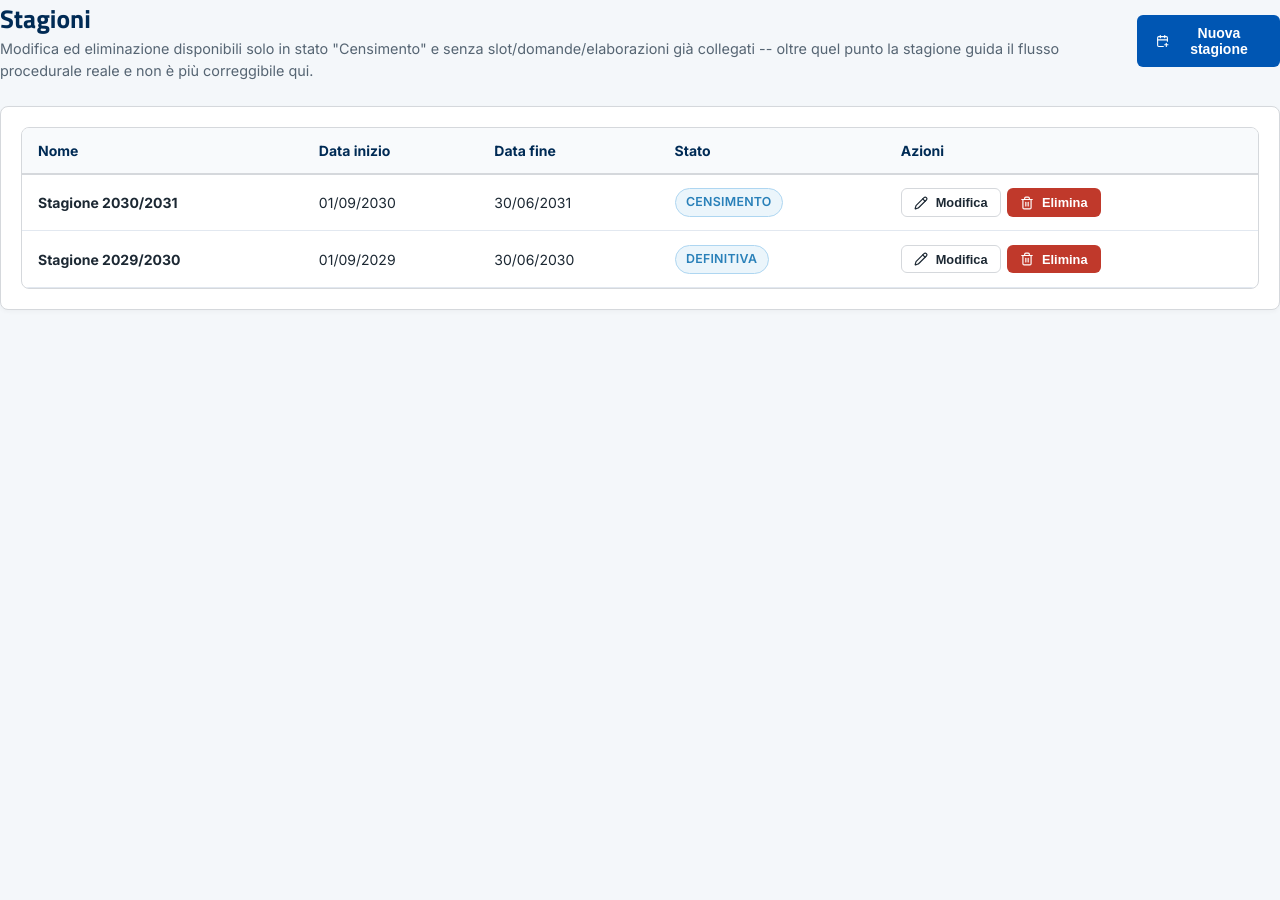
Test: StagioniView › crea una nuova stagione: submit chiama creaStagione, poi ricarica
The image size is (1280, 900).
Expected: the text "Stagione 2030/2031" is shown, x1=22 y1=174 x2=303 y2=231
Click the button "Nuova stagione" at coordinates (1208, 41), box x1=1137 y1=15 x2=1279 y2=67
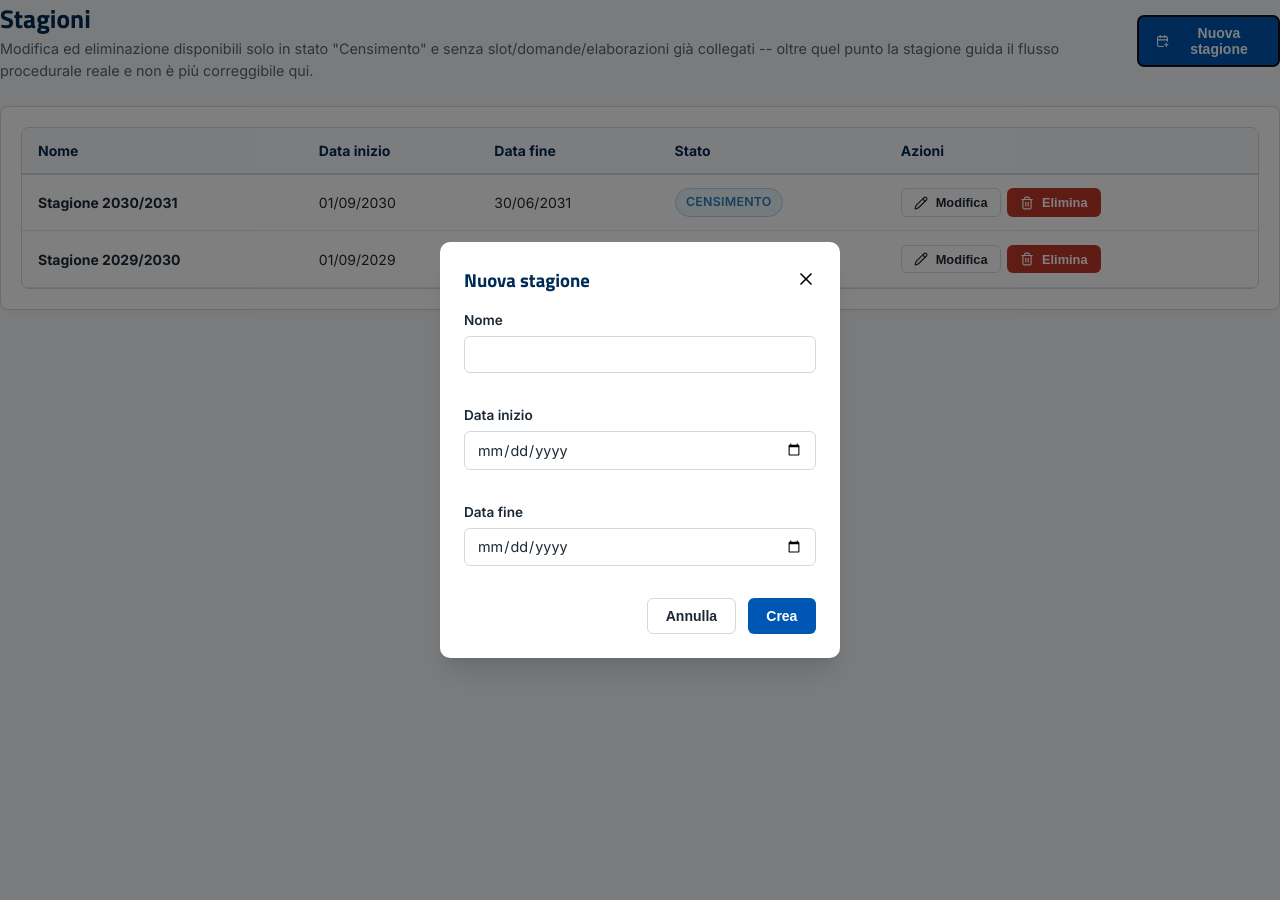
Type "Nuova" into the field labelled "Nome" at coordinates (640, 355), box x1=464 y1=336 x2=816 y2=373
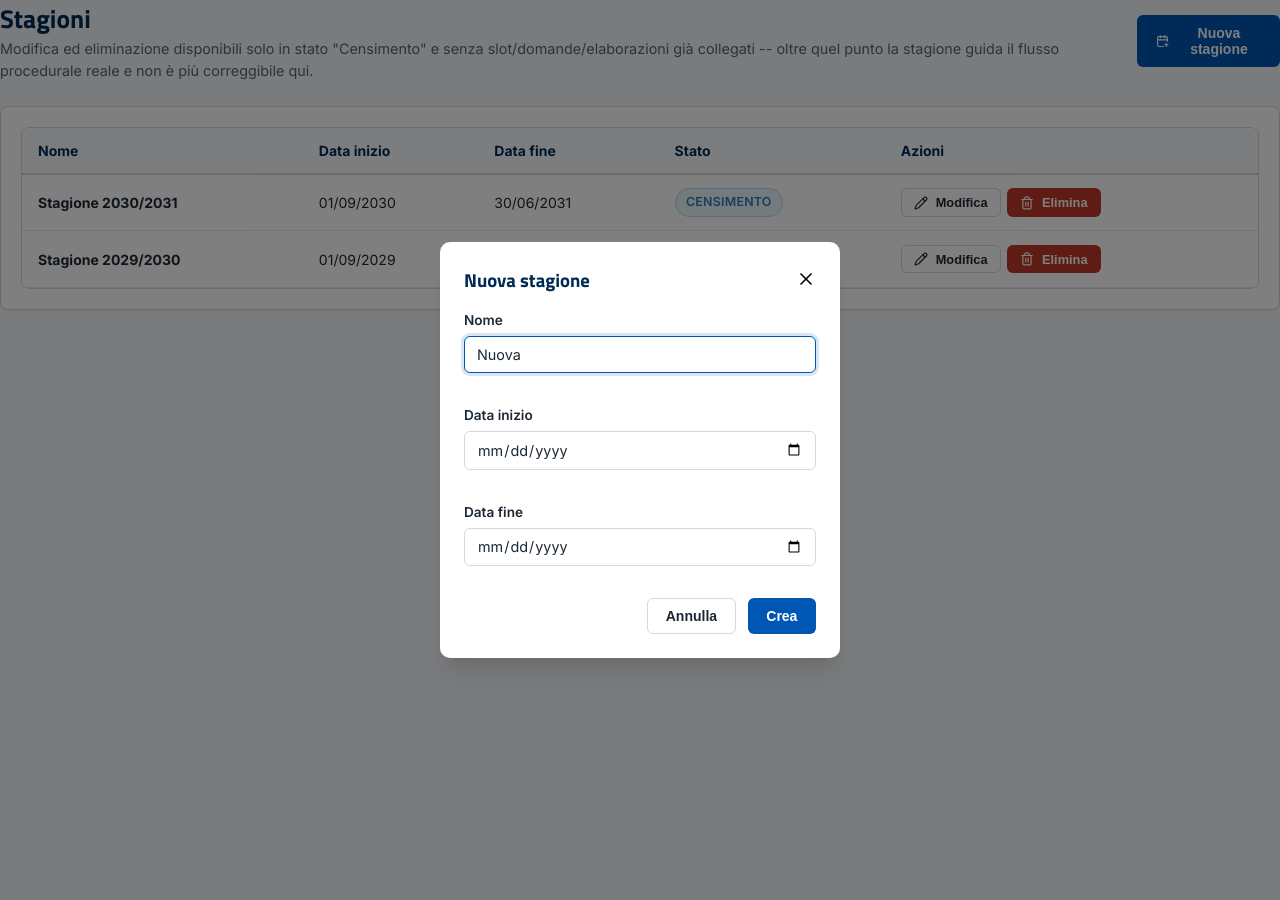
Type "2032-09-01" into the date field labelled "Data inizio" at coordinates (640, 450), box x1=464 y1=431 x2=816 y2=470
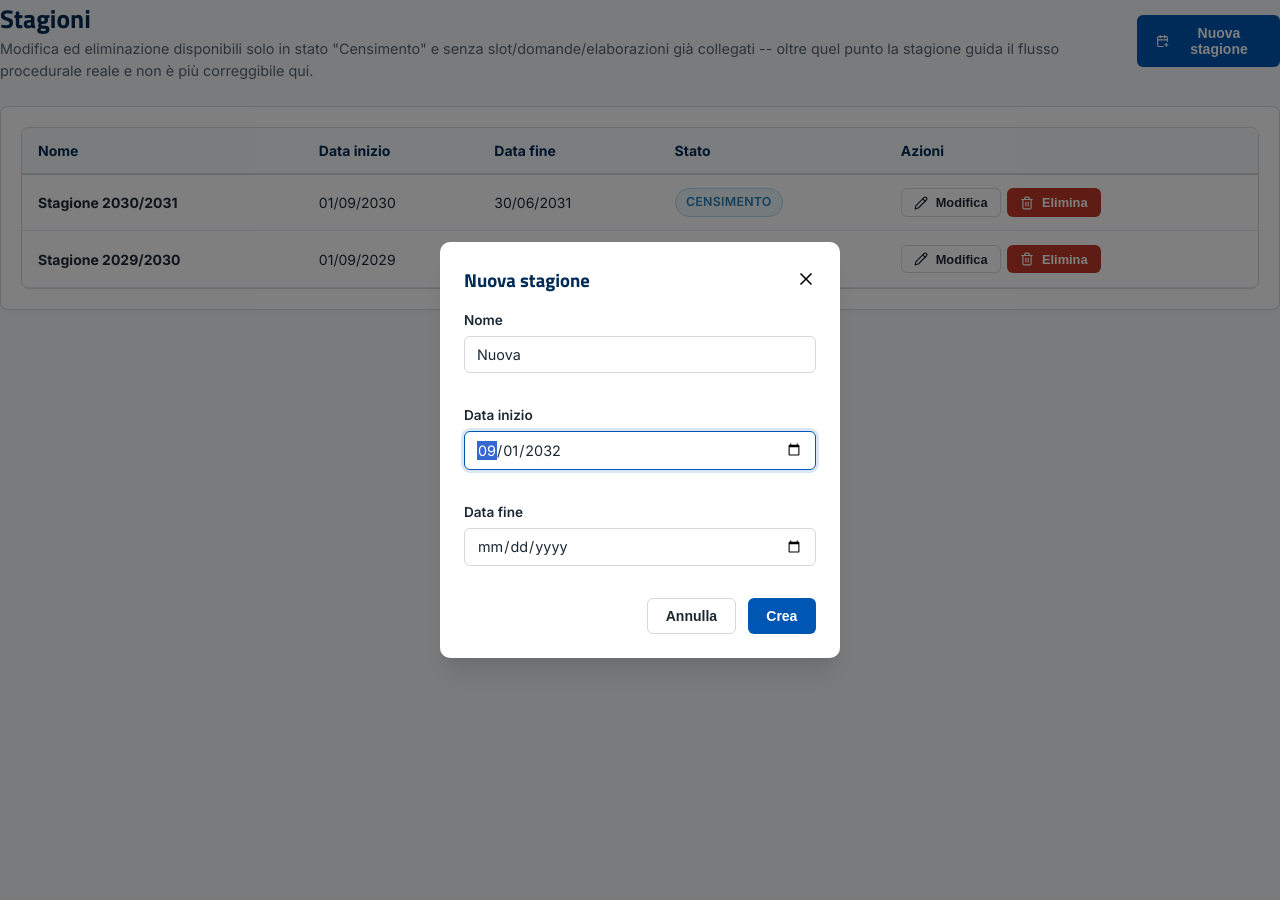
Type "2033-06-30" into the date field labelled "Data fine" at coordinates (640, 547), box x1=464 y1=528 x2=816 y2=566
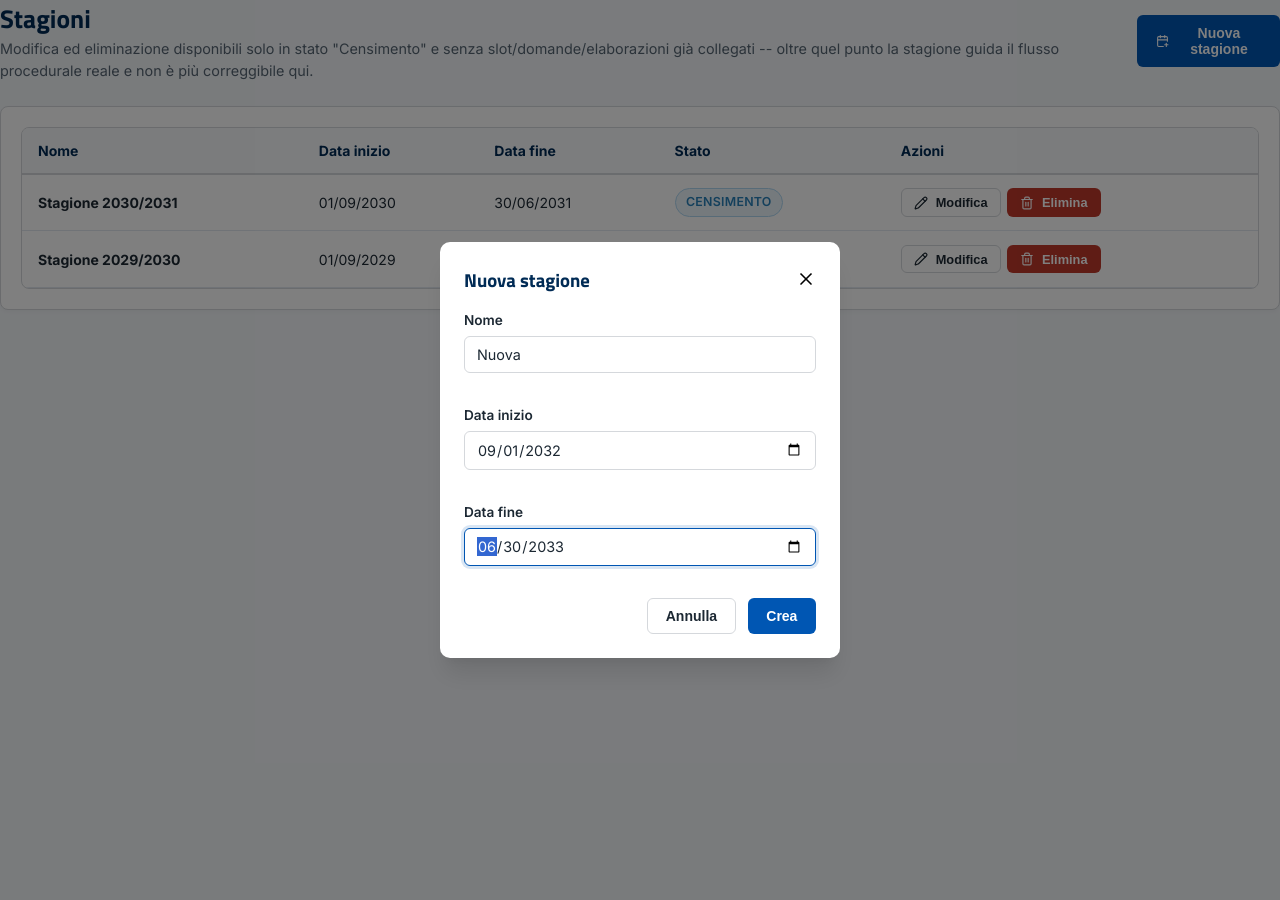
Click the button "Crea" at coordinates (782, 616), box x1=748 y1=598 x2=816 y2=634
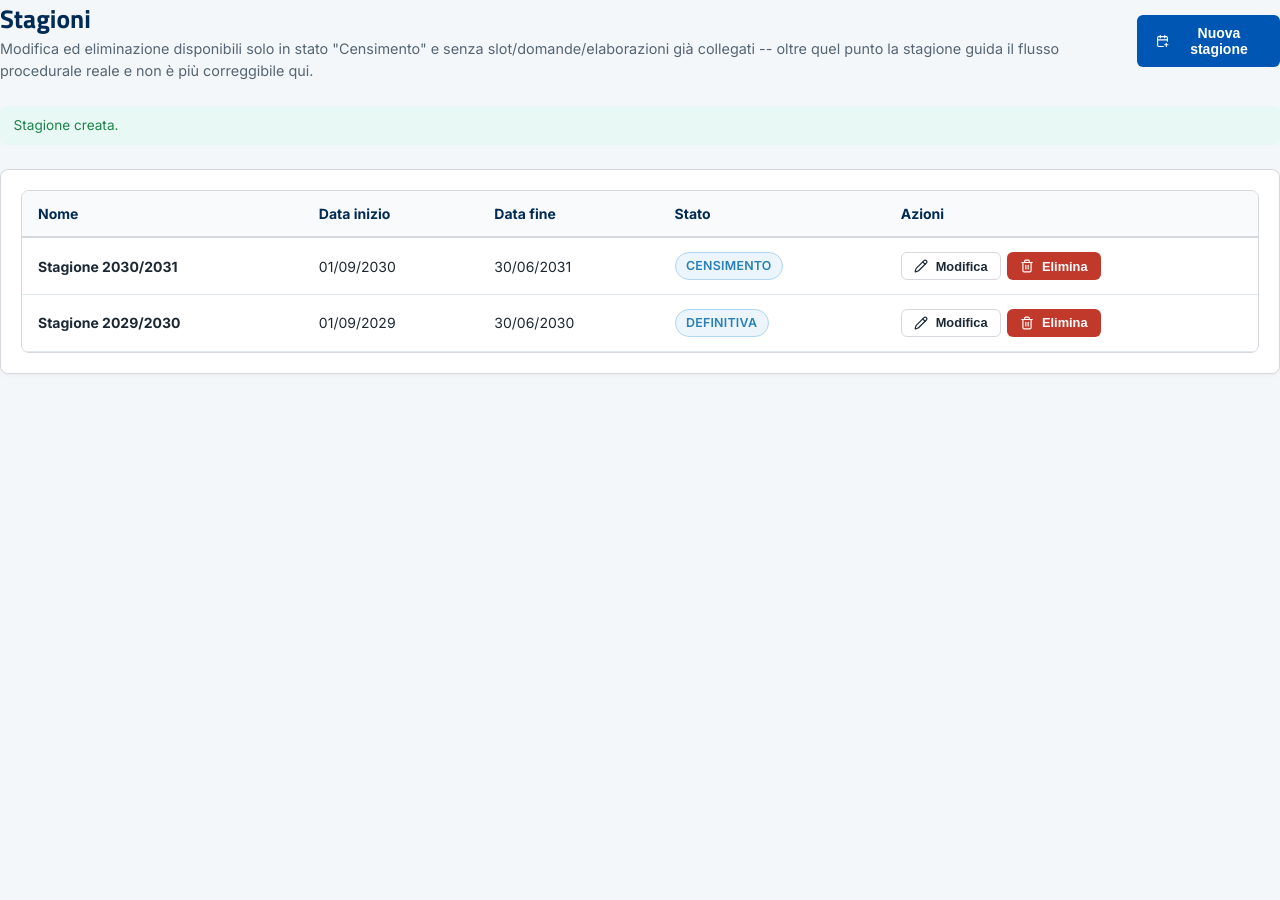
Expected: the text "Stagione creata." is shown, x1=0 y1=106 x2=1279 y2=145
